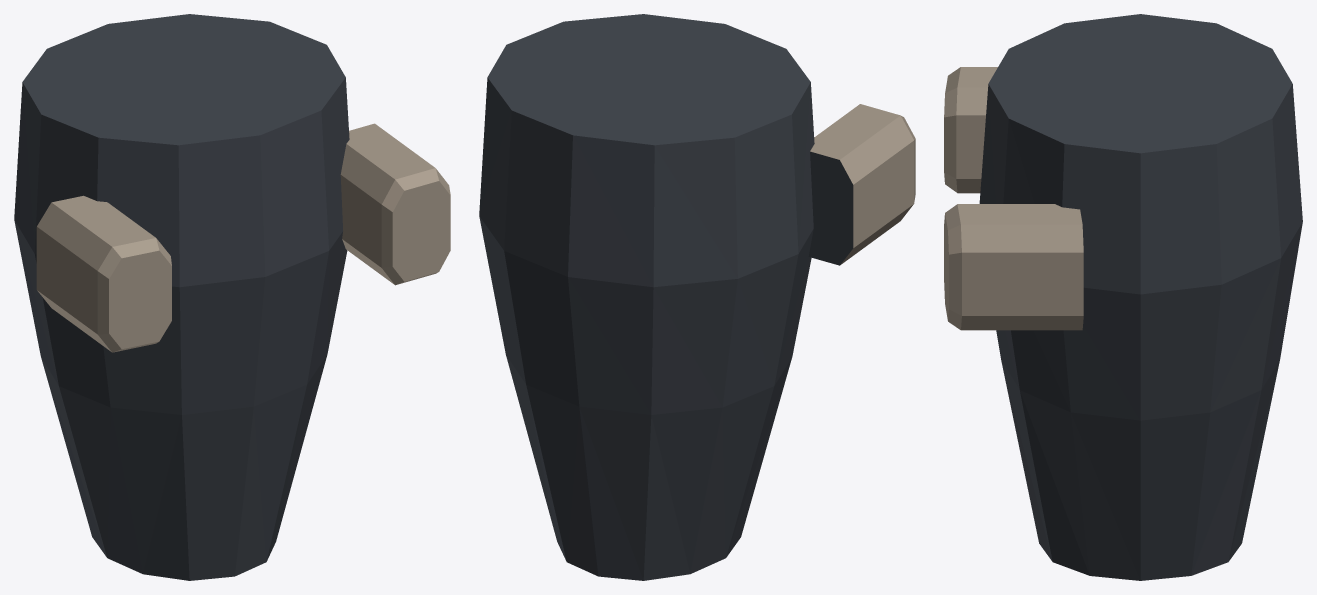
The model's file is pelvis_medium.glb.
3 renders of one model, left to right at view 1: azimuth 30°, elevation 25°; view 2: azimuth 150°, elevation 25°; view 3: azimuth 270°, elevation 25°, orthographic.
Visible parts, largest first — view 1: pelvis_medium; view 2: pelvis_medium; view 3: pelvis_medium.
Boxes of the visible parts, x1,y1,x2,y2 form: pelvis_medium: (14, 14, 450, 580); pelvis_medium: (479, 14, 915, 580); pelvis_medium: (944, 14, 1302, 580).
Bounding box in the file's own units: 0.8 × 1 × 0.7074.
